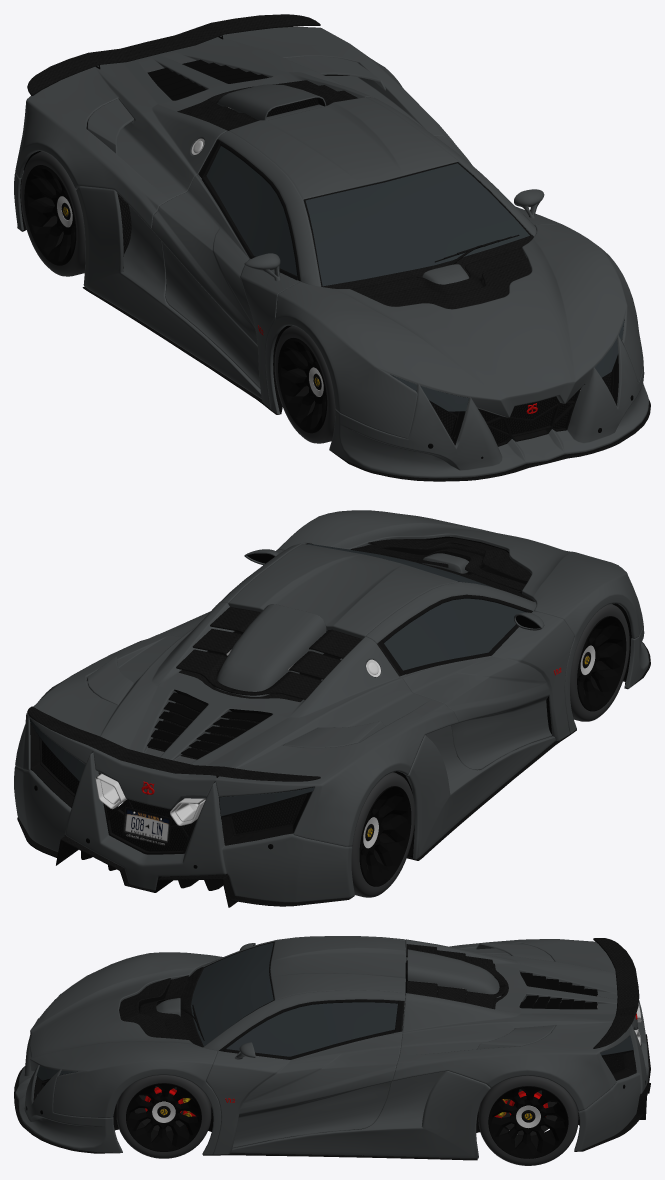
Rendered from goblin.glb.
The picture shows the model from 3 angles, top to bottom: view 1: azimuth 30°, elevation 25°; view 2: azimuth 150°, elevation 25°; view 3: azimuth 270°, elevation 25°; orthographic projection. The views are drawn at different scales.
Visible parts, largest first — view 1: clearcoat, car_body, car_glass, car_wheel_BR, car_wheel_FR; view 2: clearcoat, car_body, car_glass, car_wheel_BR, car_wheel_FR; view 3: clearcoat, car_body, car_glass, car_wheel_BL, car_wheel_FL.
Part boxes in pixels (bbox=[...]): clearcoat: bbox=[14, 27, 649, 478]; car_body: bbox=[17, 14, 650, 481]; car_glass: bbox=[206, 146, 624, 411]; car_wheel_BR: bbox=[20, 151, 85, 276]; car_wheel_FR: bbox=[274, 325, 335, 443]; clearcoat: bbox=[14, 510, 649, 902]; car_body: bbox=[17, 536, 650, 907]; car_glass: bbox=[29, 544, 525, 816]; car_wheel_BR: bbox=[351, 772, 414, 897]; car_wheel_FR: bbox=[570, 603, 629, 721]; clearcoat: bbox=[15, 936, 648, 1158]; car_body: bbox=[14, 938, 650, 1160]; car_glass: bbox=[36, 942, 633, 1080]; car_wheel_BL: bbox=[478, 1075, 578, 1165]; car_wheel_FL: bbox=[116, 1075, 211, 1158].
Bounding box in the file's own units: 2.18 × 1.17 × 4.6.
4 materials, 1 textured.
